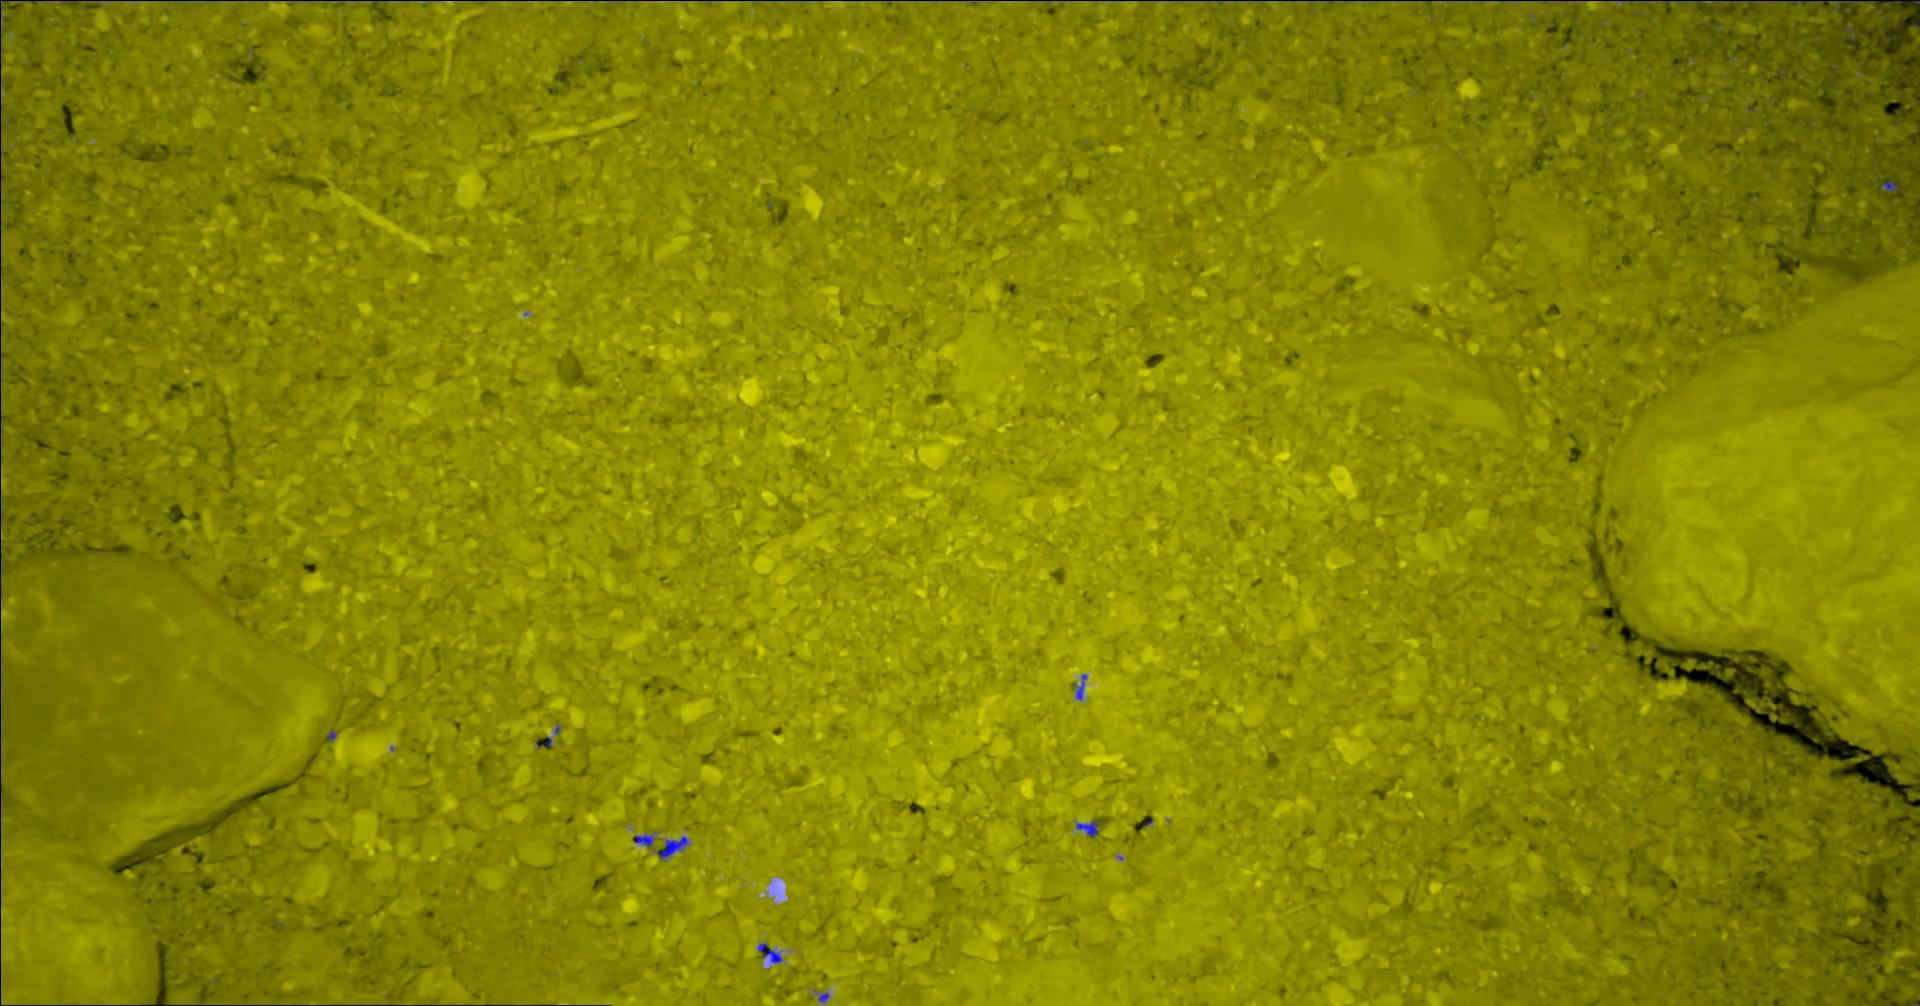ant: (1710, 0, 1877, 9), (657, 836, 687, 857), (757, 942, 782, 962), (1615, 0, 1704, 5), (1076, 819, 1098, 837), (1073, 674, 1086, 699), (632, 833, 654, 845), (1879, 180, 1897, 191), (1497, 0, 1548, 1)
